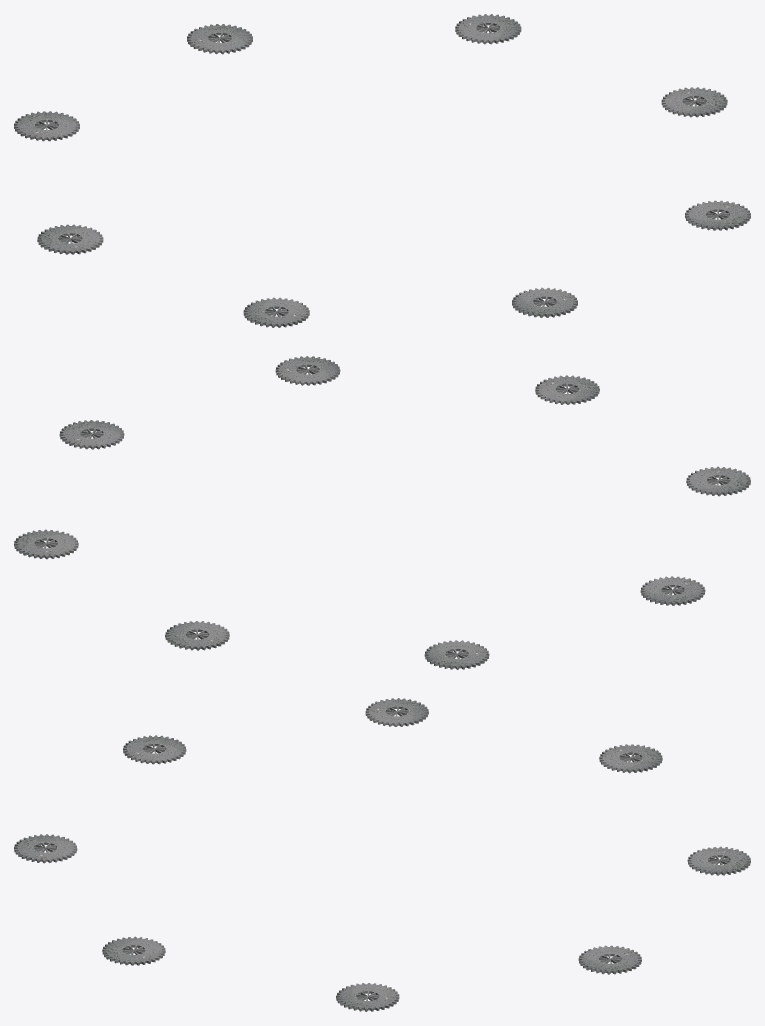
3 views of the same model, one above another, from view 1: azimuth 30°, elevation 25°; view 2: azimuth 150°, elevation 25°; view 3: azimuth 270°, elevation 25° (orthographic). The views are drawn at different scales.
Visible parts, largest first — view 1: 09_HZ; view 2: 09_HZ; view 3: 09_HZ.
Boxes of the visible parts, box(x1,y1,x2,y2) form: 09_HZ: box(14, 14, 750, 327); 09_HZ: box(14, 356, 750, 669); 09_HZ: box(14, 698, 750, 1011).
Size of the model in its own units: 5941 by 20 by 5941.
